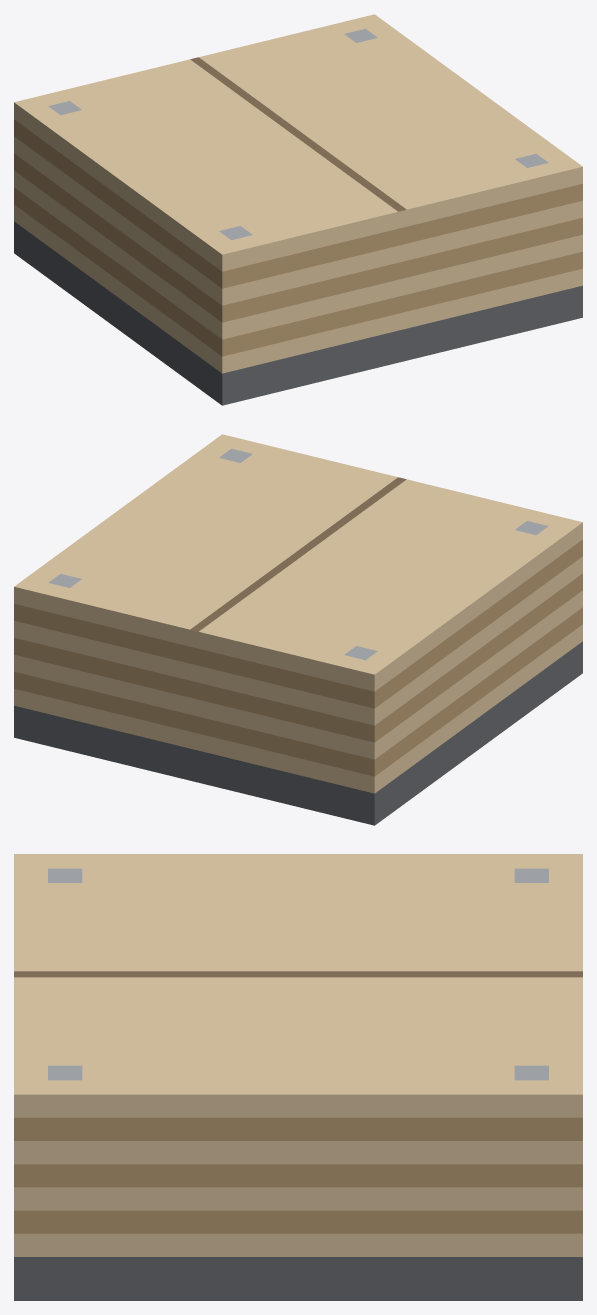
File: PlywoodTile.fbx
3 views of the same model, one above another, from view 1: azimuth 30°, elevation 25°; view 2: azimuth 150°, elevation 25°; view 3: azimuth 270°, elevation 25° (orthographic). The views are drawn at different scales.
Visible parts, largest first — view 1: PlywoodTile; view 2: PlywoodTile; view 3: PlywoodTile.
Part boxes in pixels (x1,y1,x2,y2): PlywoodTile: (14,14,582,405); PlywoodTile: (14,434,582,825); PlywoodTile: (14,854,582,1300).
Size of the model in its own units: 1 by 0.4 by 1.
